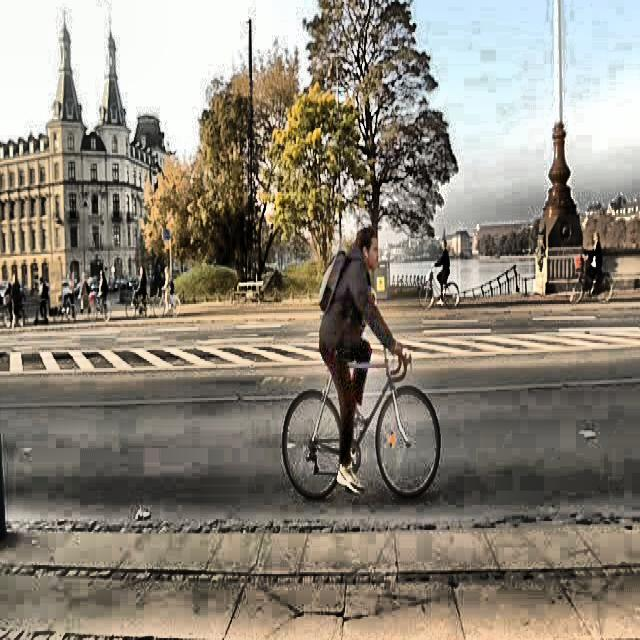bicycle: (276, 343, 444, 507)
